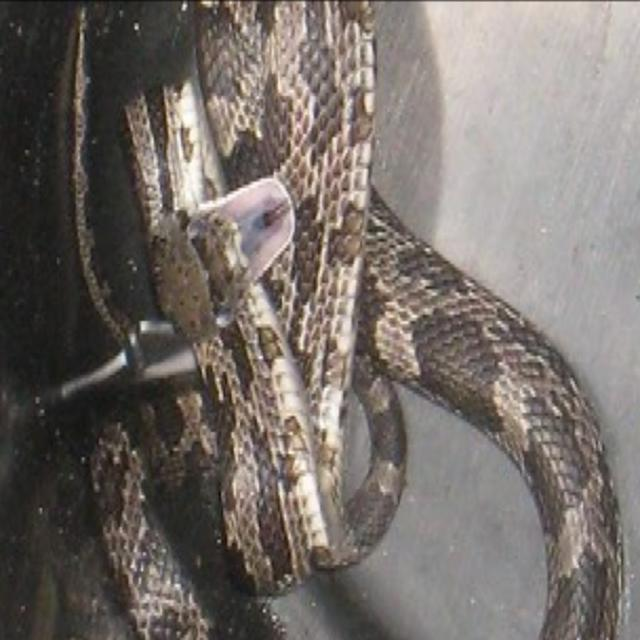Snake: (71, 0, 624, 640)
